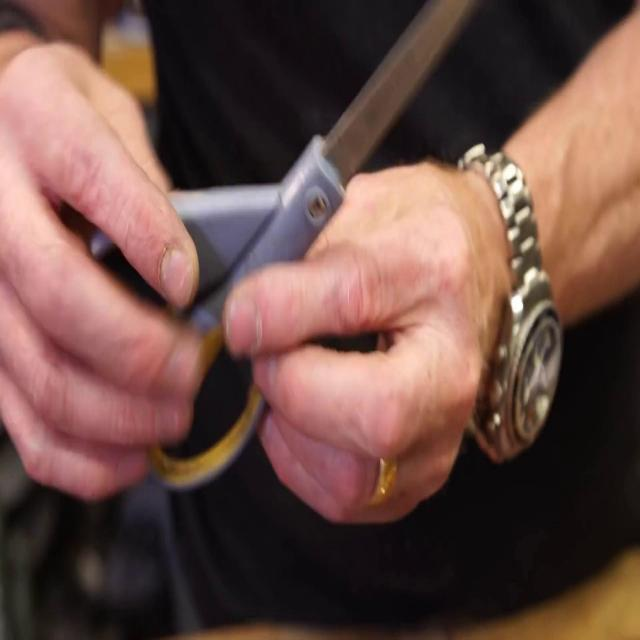scissor: (90, 0, 472, 493)
